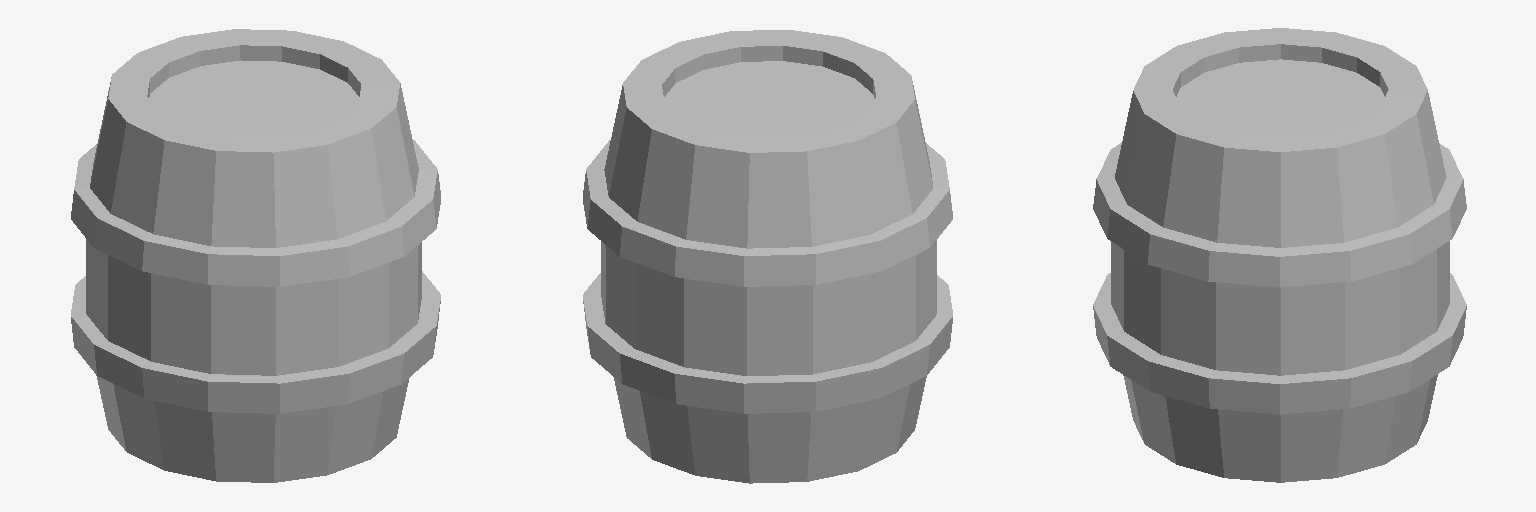
The model's file is barrell.obj.
3 views of the same model, side by side, from view 1: azimuth 30°, elevation 25°; view 2: azimuth 150°, elevation 25°; view 3: azimuth 270°, elevation 25° (orthographic).
Visible parts, largest first — view 1: Cylinder_Cylinder.001; view 2: Cylinder_Cylinder.001; view 3: Cylinder_Cylinder.001.
Part boxes in pixels (x1,y1,x2,y2): Cylinder_Cylinder.001: (71,29,440,482); Cylinder_Cylinder.001: (583,30,952,483); Cylinder_Cylinder.001: (1093,28,1466,482).
Bounding box in the file's own units: 1.2 × 1.17 × 1.2.